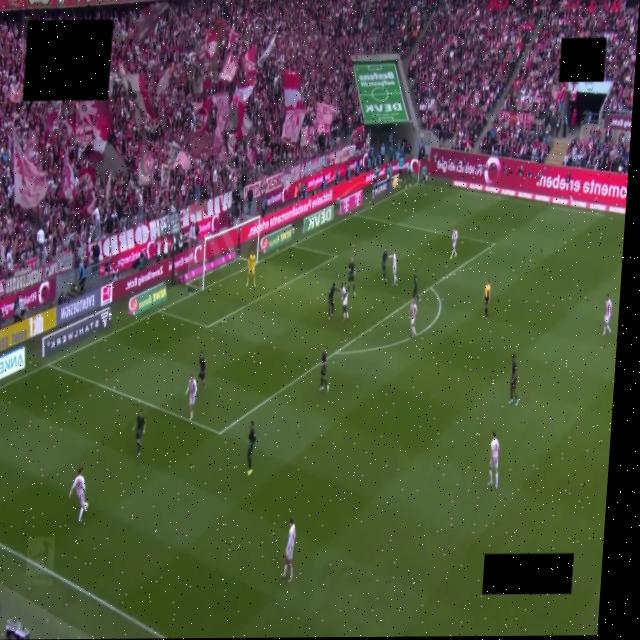ball: (84, 502, 88, 510)
player: (281, 518, 297, 584), (69, 468, 87, 522), (487, 432, 499, 489), (132, 413, 145, 456), (246, 422, 255, 476), (185, 376, 196, 419), (509, 354, 517, 405), (319, 347, 328, 391), (602, 293, 611, 335), (246, 252, 255, 286), (347, 258, 355, 295), (198, 351, 206, 388), (327, 283, 335, 319), (340, 285, 348, 321), (449, 227, 457, 259), (410, 301, 417, 337), (412, 270, 419, 301), (381, 247, 387, 281), (391, 252, 396, 285)
referee: (484, 278, 490, 320)
